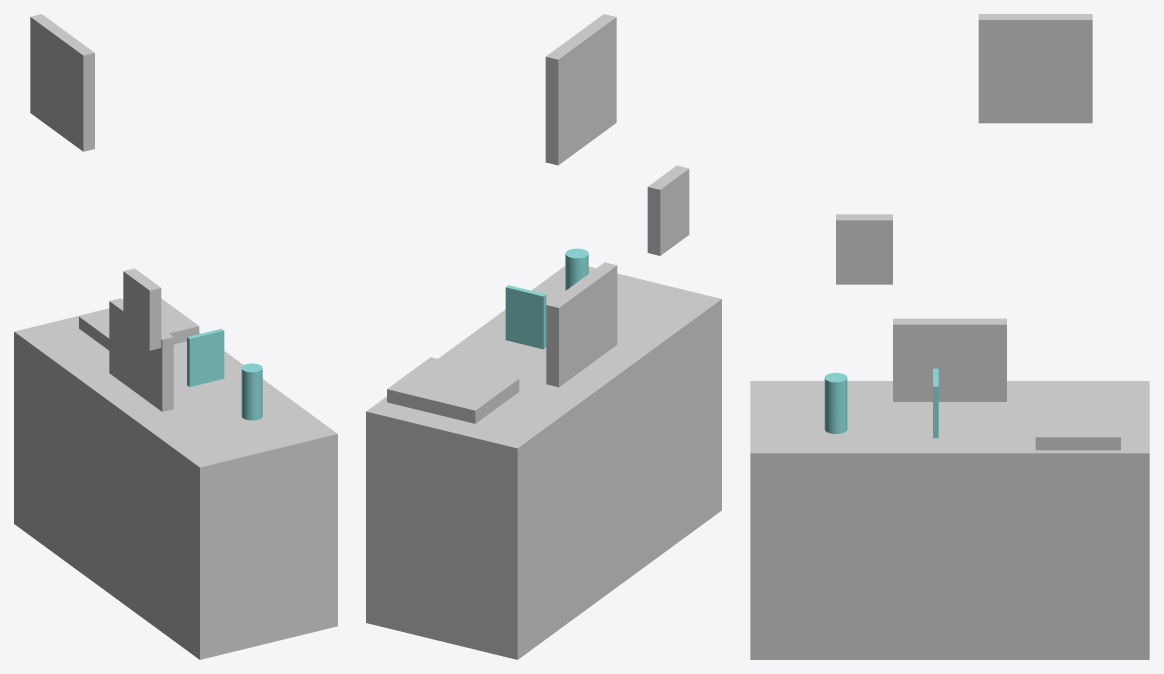
The model's file is ZoneBD_textured.fbx.
3 views of the same model, side by side, from view 1: azimuth 30°, elevation 25°; view 2: azimuth 150°, elevation 25°; view 3: azimuth 270°, elevation 25° (orthographic). The views are drawn at different scales.
Parts seen in each view (by area): view 1: Table, Wall_Clock, Terminal, Socket_Photo, PhotoFrame, Console, Cartridge; view 2: Table, Wall_Clock, Terminal, Console, Socket_Photo, PhotoFrame, Cartridge; view 3: Table, Wall_Clock, Terminal, Console, Socket_Photo, Cartridge.
Boxes of the visible parts, bbox=[...] form: Table: bbox=[14, 308, 337, 659]; Wall_Clock: bbox=[30, 14, 94, 151]; Terminal: bbox=[109, 298, 173, 411]; Socket_Photo: bbox=[123, 268, 161, 350]; PhotoFrame: bbox=[187, 328, 224, 386]; Console: bbox=[79, 298, 199, 350]; Cartridge: bbox=[241, 363, 262, 420]; Table: bbox=[366, 266, 721, 659]; Wall_Clock: bbox=[545, 14, 616, 165]; Terminal: bbox=[546, 262, 617, 387]; Console: bbox=[387, 357, 519, 423]; Socket_Photo: bbox=[647, 165, 689, 255]; PhotoFrame: bbox=[505, 285, 546, 349]; Cartridge: bbox=[565, 248, 588, 290]; Table: bbox=[750, 381, 1149, 659]; Wall_Clock: bbox=[978, 14, 1092, 123]; Terminal: bbox=[893, 318, 1006, 401]; Console: bbox=[1035, 395, 1120, 450]; Socket_Photo: bbox=[836, 214, 892, 284]; Cartridge: bbox=[824, 372, 847, 433].
Bounding box in the file's own units: 64.5 × 220 × 140.
